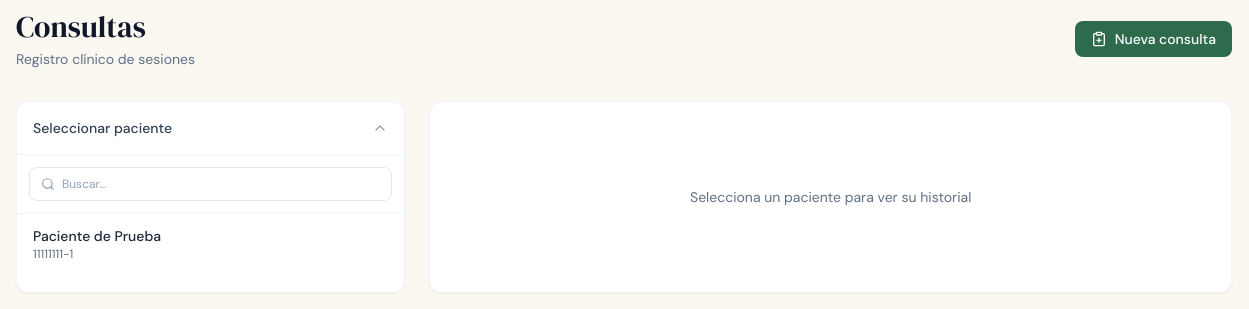
ConsultationsPage › con la carga terminada y sin sesiones muestra "Sin consultas registradas"
The width and height of the screenshot is (1249, 309).
Click the text "Paciente de Prueba": (97, 236) [33,227,161,245]
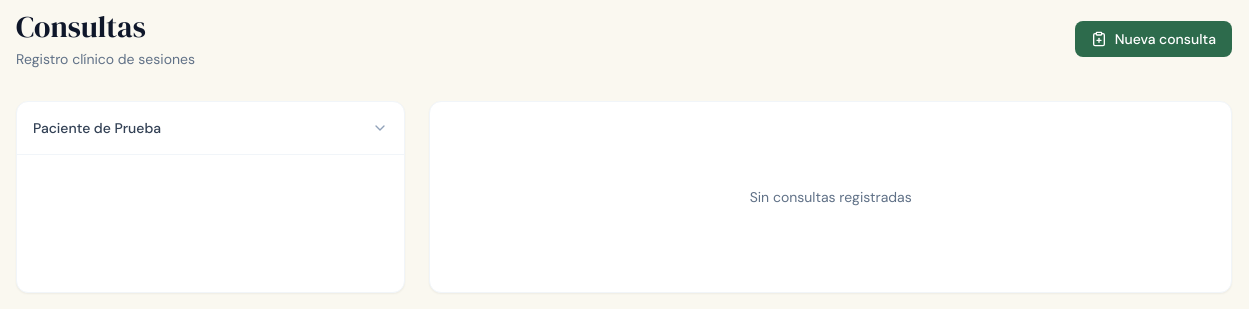
Check: the text "Sin consultas registradas" is shown, box [750,187,912,207]
